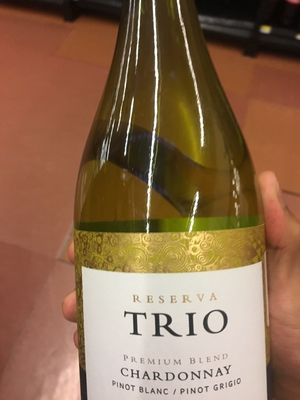trio chardonnay: (62, 29, 270, 400)
